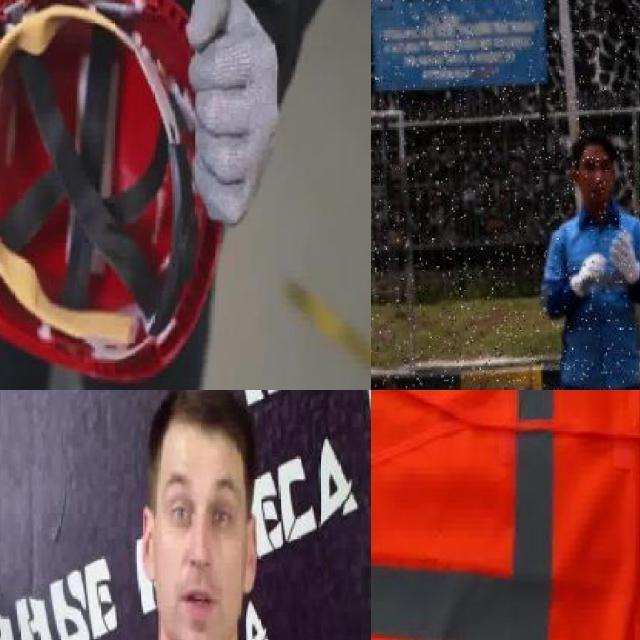apron: (177, 0, 282, 233), (566, 247, 614, 303), (607, 226, 640, 286)
